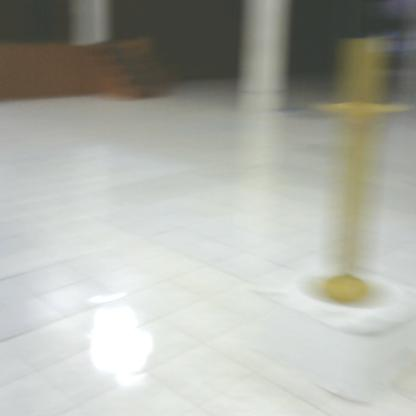pole: (296, 26, 408, 320)
